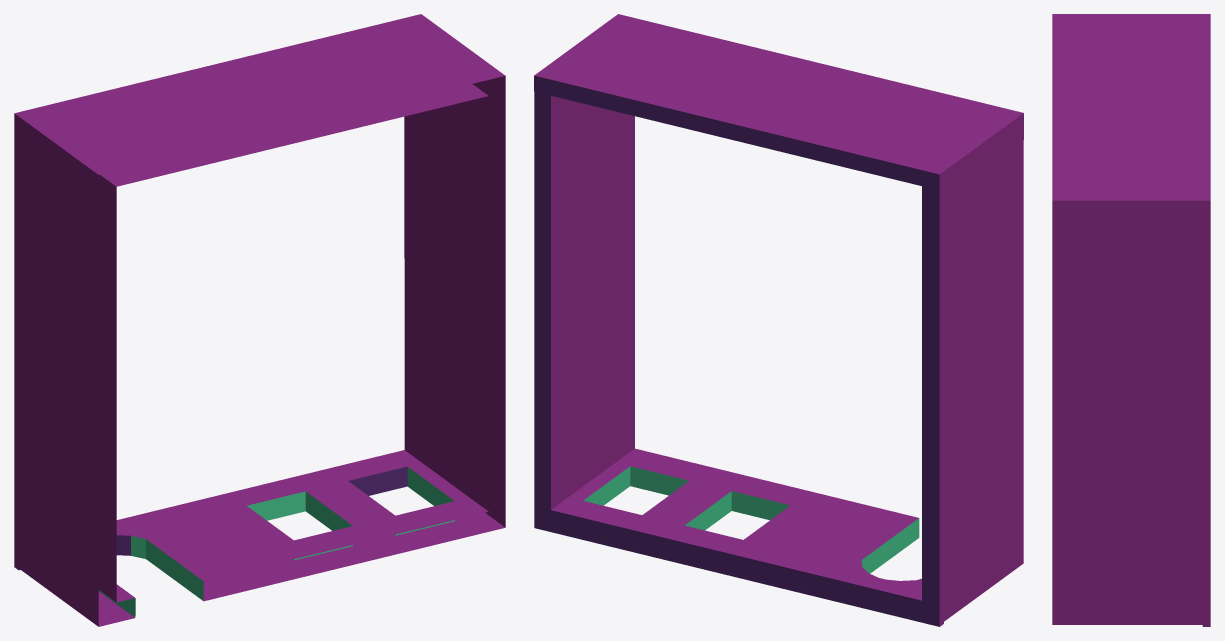
Rendered from Dom Esterki Tier 1.fbx.
3 views of the same model, side by side, from view 1: azimuth 30°, elevation 25°; view 2: azimuth 150°, elevation 25°; view 3: azimuth 270°, elevation 25° (orthographic). The views are drawn at different scales.
Parts seen in each view (by area): view 1: Cube_Cube_001; view 2: Cube_Cube_001; view 3: Cube_Cube_001.
Boxes of the visible parts, x1=… form: Cube_Cube_001: x1=14, y1=14, x2=505, y2=626; Cube_Cube_001: x1=534, y1=14, x2=1023, y2=626; Cube_Cube_001: x1=1052, y1=14, x2=1210, y2=626.
Bounding box in the file's own units: 3.45 × 3.67 × 1.24.
